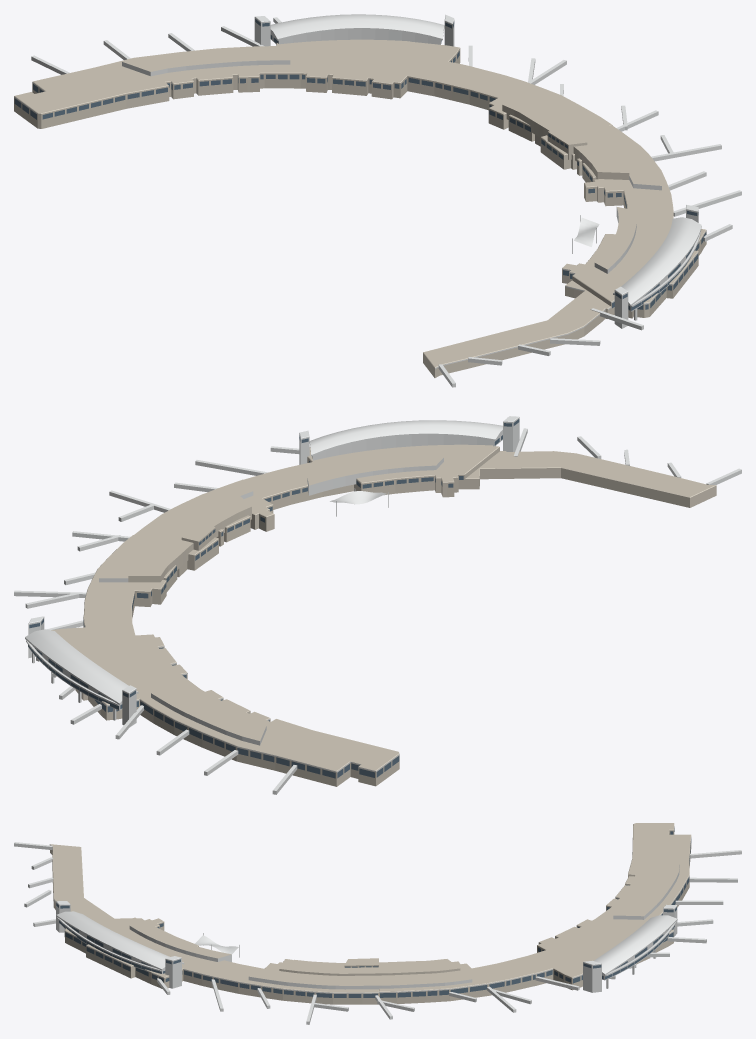
Rendered from dal-dfw-terminal-c.glb.
3 renders of one model, top to bottom at view 1: azimuth 30°, elevation 25°; view 2: azimuth 150°, elevation 25°; view 3: azimuth 270°, elevation 25°, orthographic. The views are drawn at different scales.
Parts seen in each view (by area): view 1: DFW Airport Terminal C; view 2: DFW Airport Terminal C; view 3: DFW Airport Terminal C.
Part boxes in pixels (<box>): DFW Airport Terminal C: <box>14,14,741,387</box>; DFW Airport Terminal C: <box>14,416,741,794</box>; DFW Airport Terminal C: <box>14,823,741,1024</box>.
Bounding box in the file's own units: 403 × 27.4 × 636.
